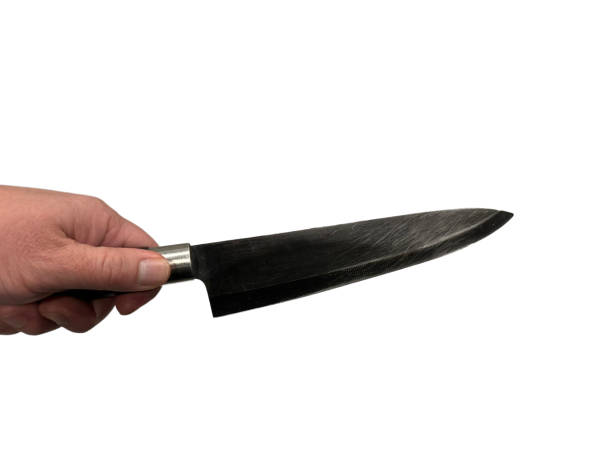knife: (155, 207, 515, 320)
